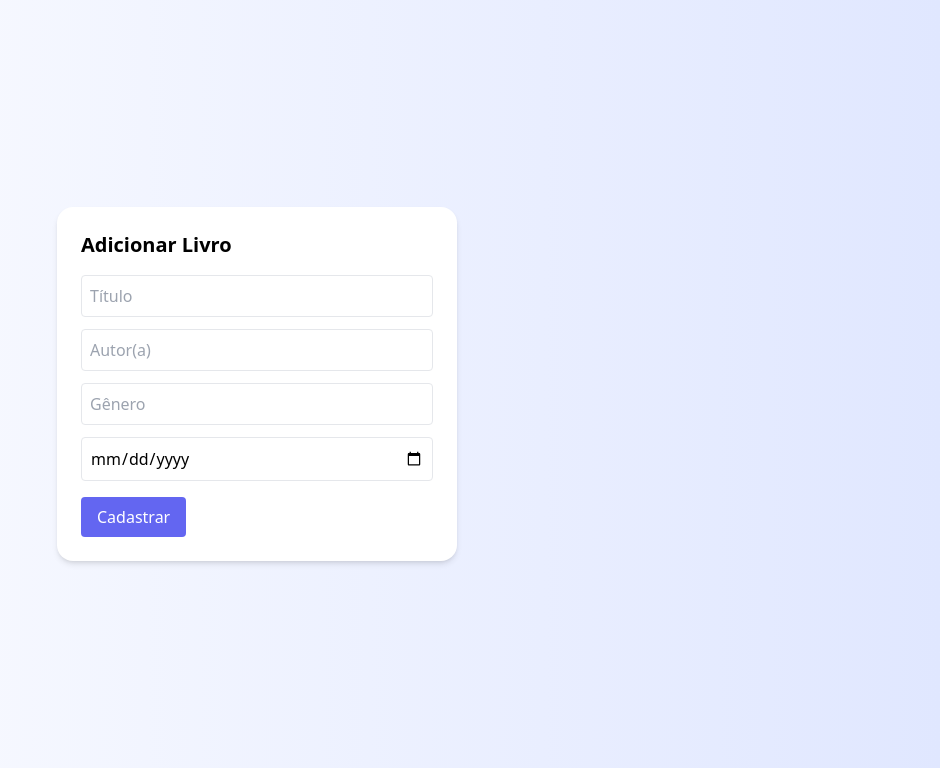
Register › mostra mensagem ao cadastrar um novo livro
In the field with placeholder "Título": (257, 296) [81,275,433,317], type "1984"
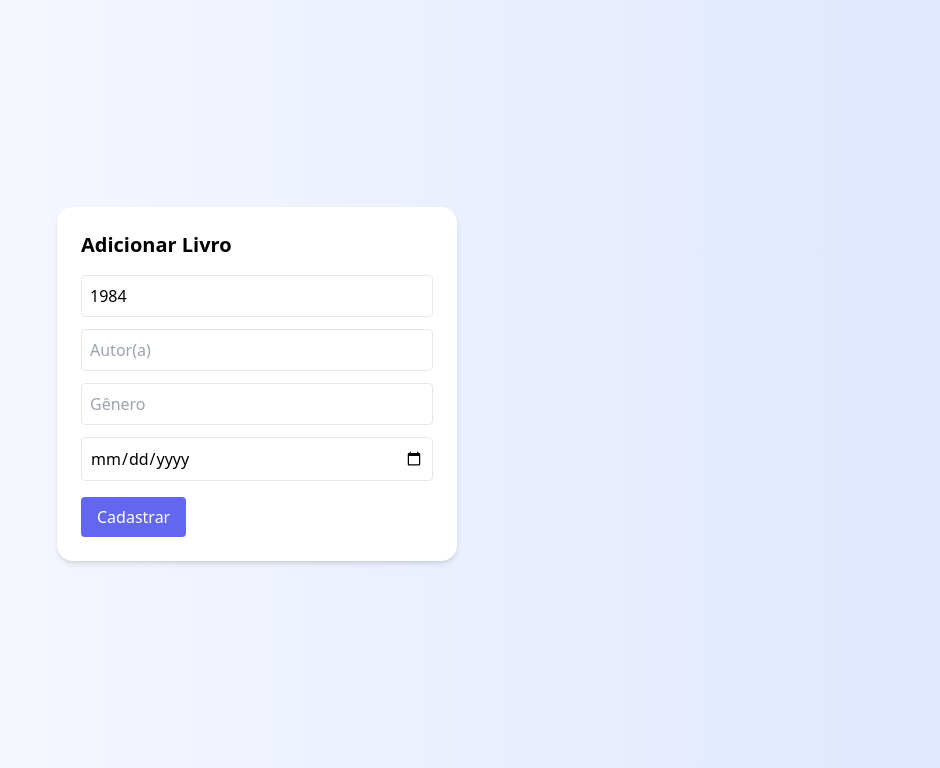
In the field with placeholder "Autor(a)": (257, 350) [81,329,433,371], type "Orwell"
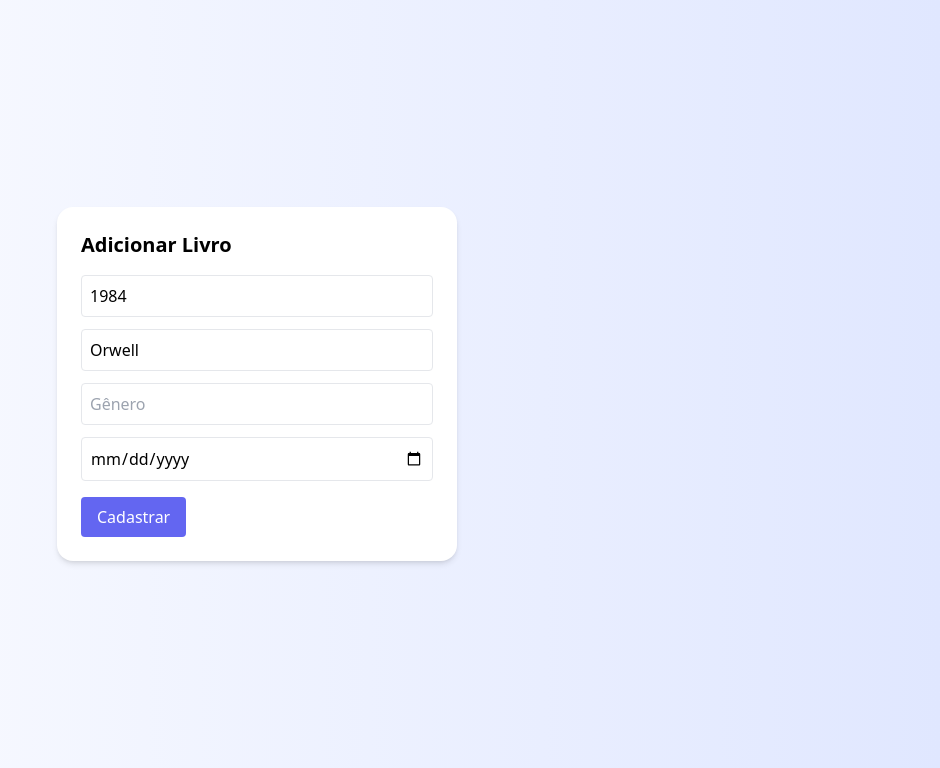
In the field with placeholder "Gênero": (257, 404) [81,383,433,425], type "Distopia"
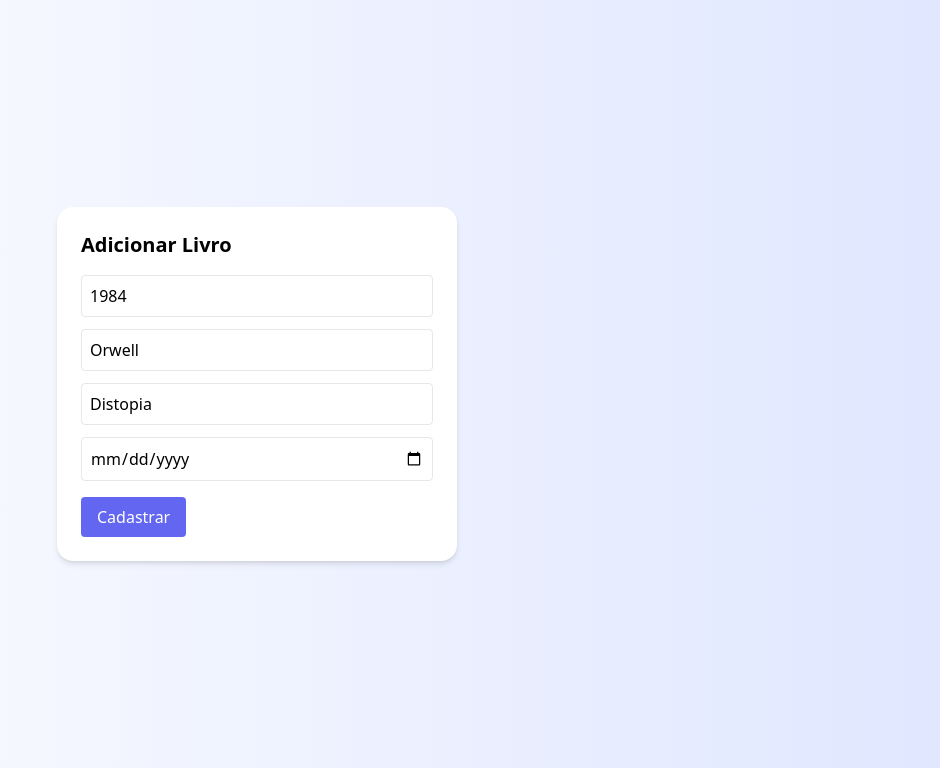
In the date field named "Data de leitura": (257, 459) [81,437,433,481], type "2025-06-01"
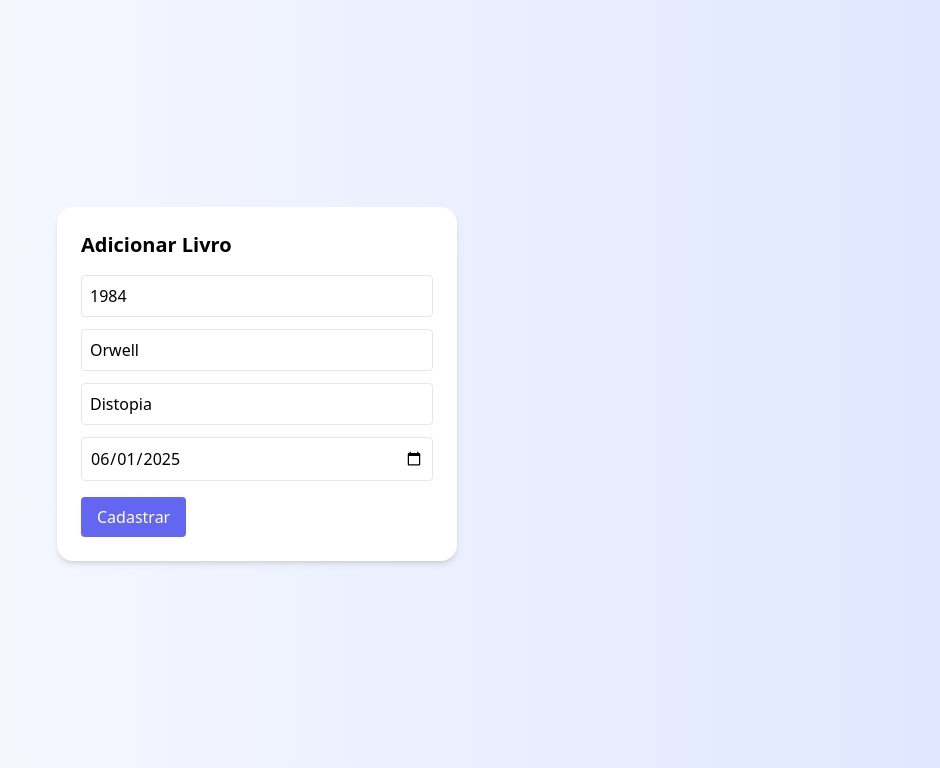
Click the button "Cadastrar": click(134, 517) [81,497,186,537]
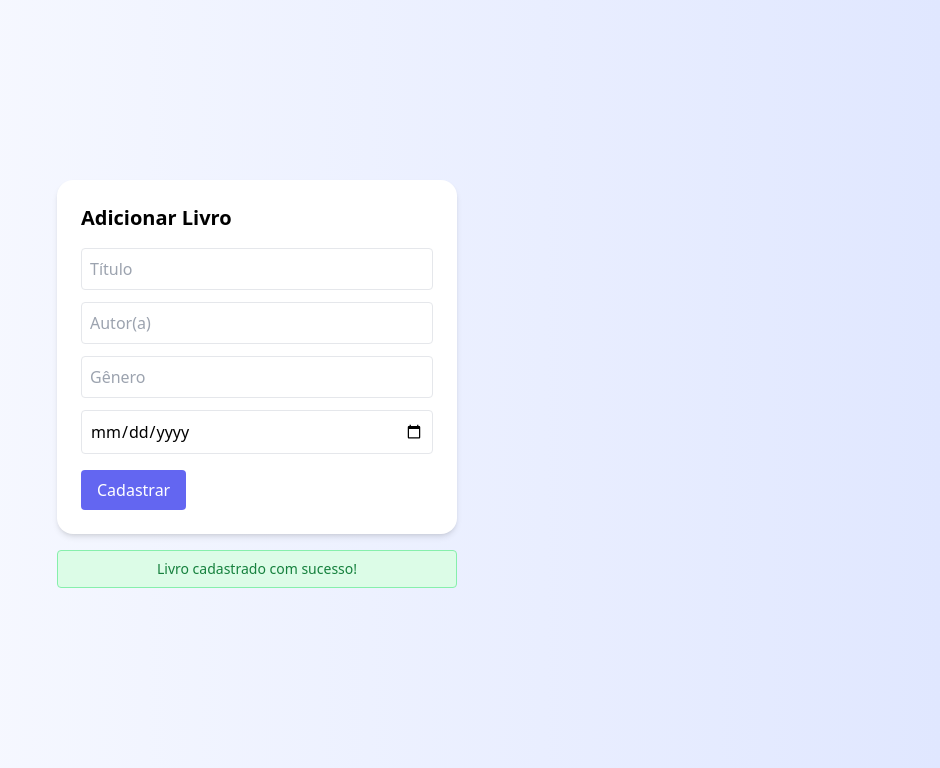
Check: the text "Livro cadastrado com sucesso!" is shown, box [57,550,457,588]
